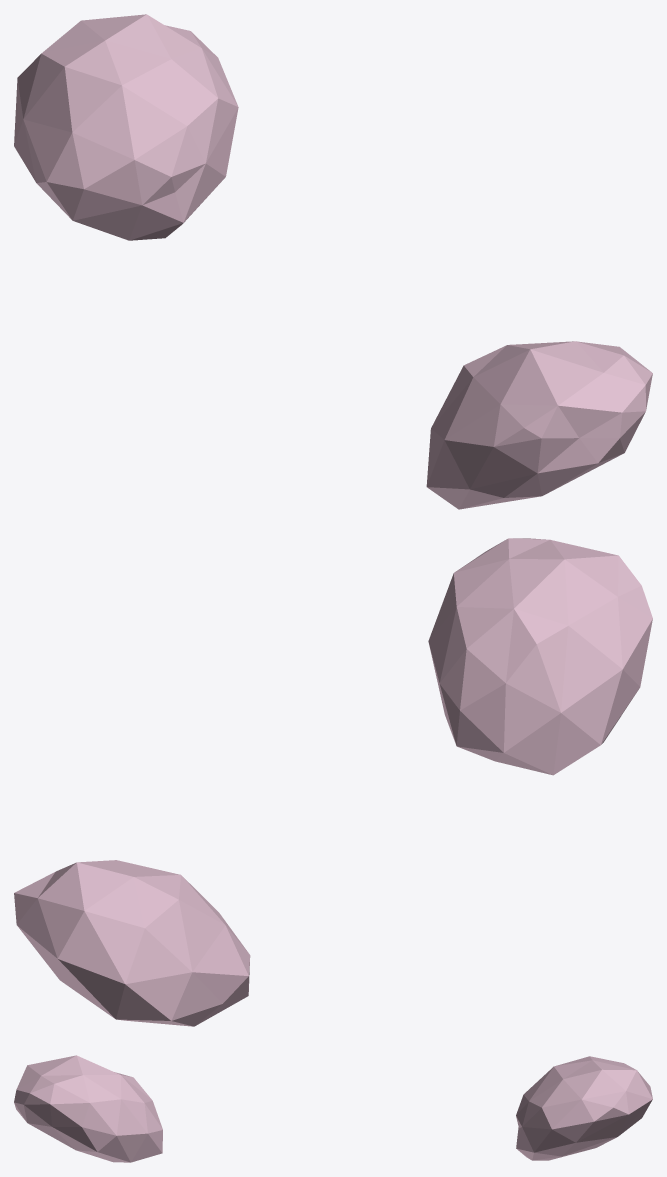
The picture shows the model from 3 angles, top to bottom: view 1: azimuth 30°, elevation 25°; view 2: azimuth 150°, elevation 25°; view 3: azimuth 270°, elevation 25°; orthographic projection. The views are drawn at different scales.
Visible parts, largest first — view 1: 653.obj; view 2: 653.obj; view 3: 653.obj.
Part boxes in pixels (x1,y1,x2,y2): 653.obj: (14, 14, 652, 509); 653.obj: (14, 538, 652, 1026); 653.obj: (14, 1055, 652, 1162).
Bounding box in the file's own units: 228 × 194 × 1042.
